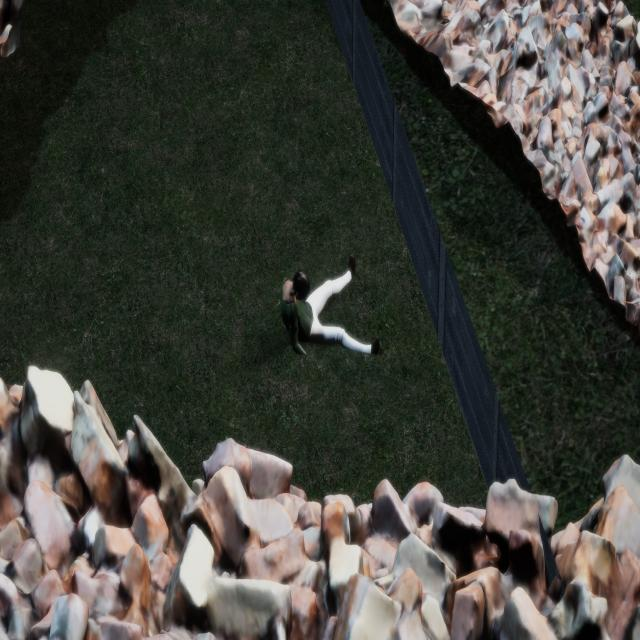Human: (271, 252, 390, 391)
